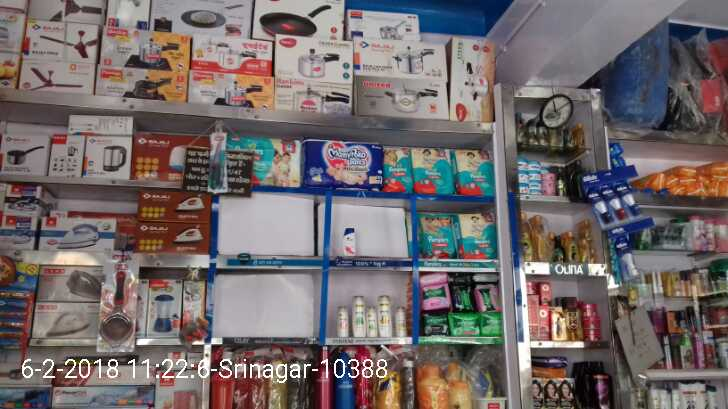beauty: (350, 295, 364, 338), (378, 296, 391, 337), (622, 251, 639, 280), (625, 194, 644, 214), (343, 226, 356, 255), (365, 311, 378, 336), (337, 308, 348, 335), (395, 309, 405, 336), (612, 200, 624, 220), (597, 201, 607, 223)
pharmacy: (226, 134, 298, 182), (418, 211, 458, 259), (413, 145, 452, 193), (456, 148, 493, 195), (459, 210, 495, 254), (382, 148, 413, 191), (418, 273, 450, 308), (475, 280, 501, 309), (452, 277, 470, 309), (423, 316, 449, 333), (453, 318, 477, 334), (482, 317, 504, 333)
